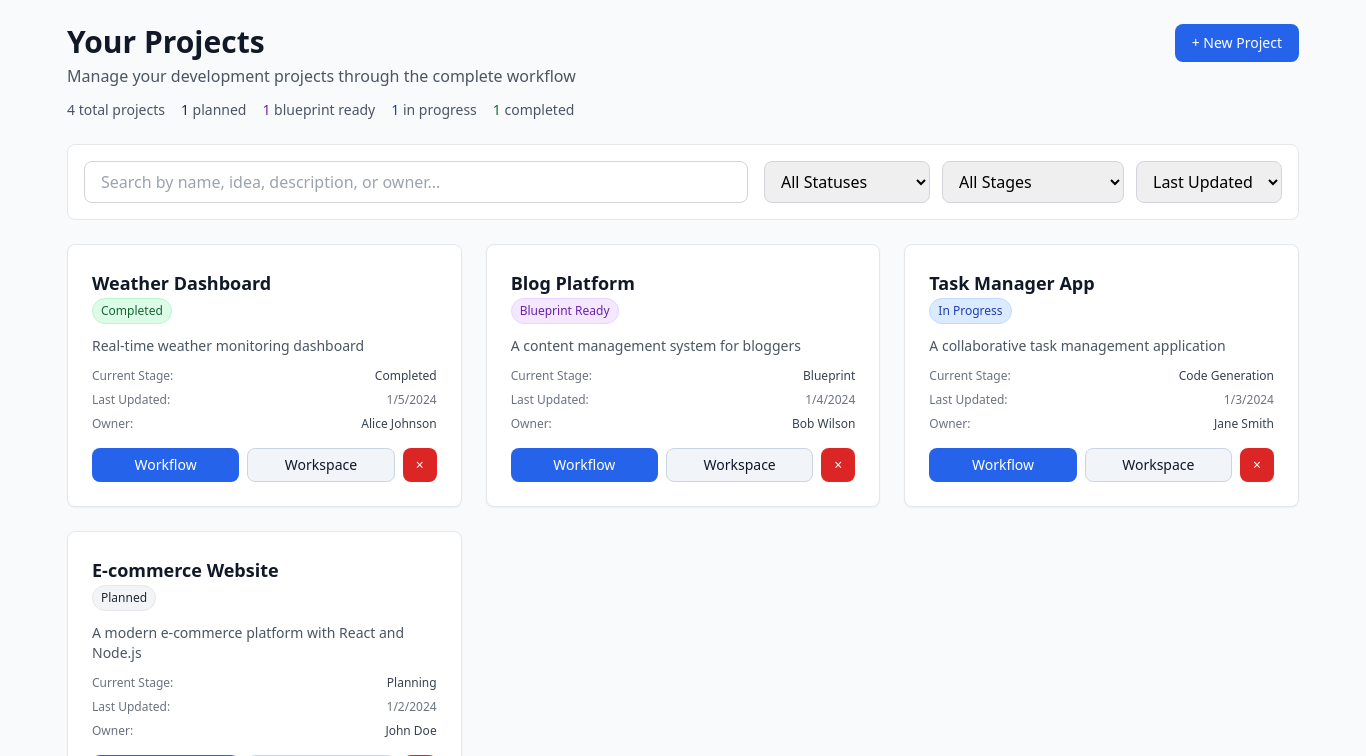
Test: DashboardPage › New Project Creation Workflow › opens create project modal when new project button is clicked
Click the button "+ New Project". click: (1237, 43)
box: [1175, 24, 1299, 62]
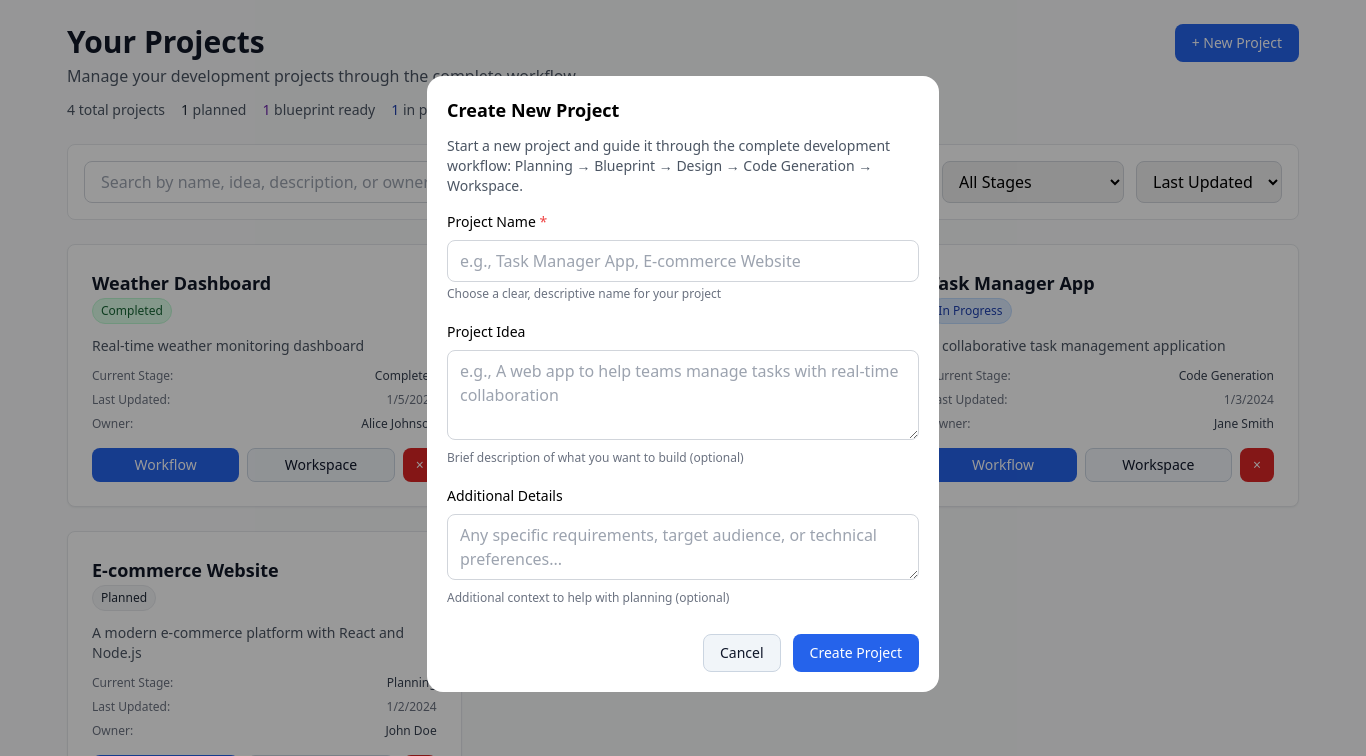
Expected: the heading "Create New Project" is shown, [447, 98, 619, 122]
Expected: the field with placeholder "e.g., Task Manager App, E-commerce Website" is shown, [447, 240, 919, 282]
Expected: the text box with placeholder "e.g., A web app to help teams manage tasks with real-time collaboration" is shown, [447, 350, 919, 440]
